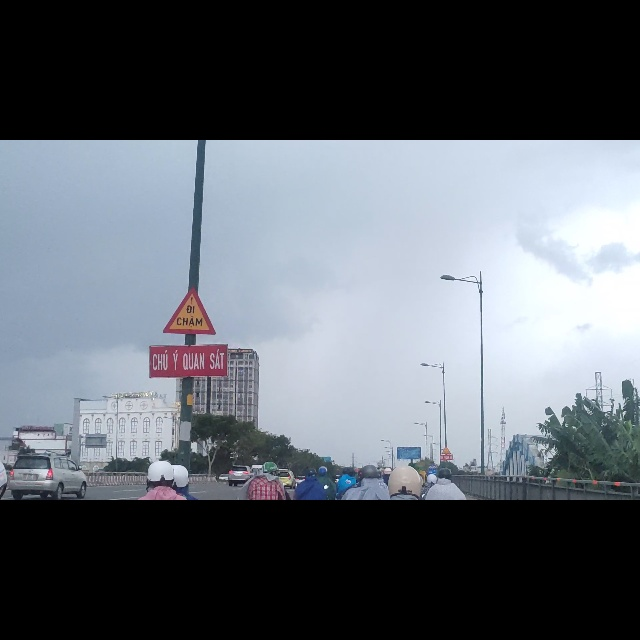bien_chi_dan: (162, 261, 216, 347)
